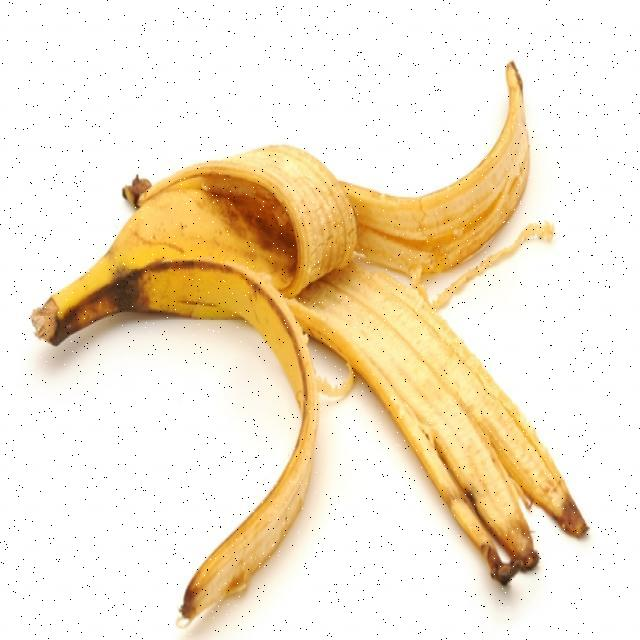banana-peel: (29, 60, 589, 625)
